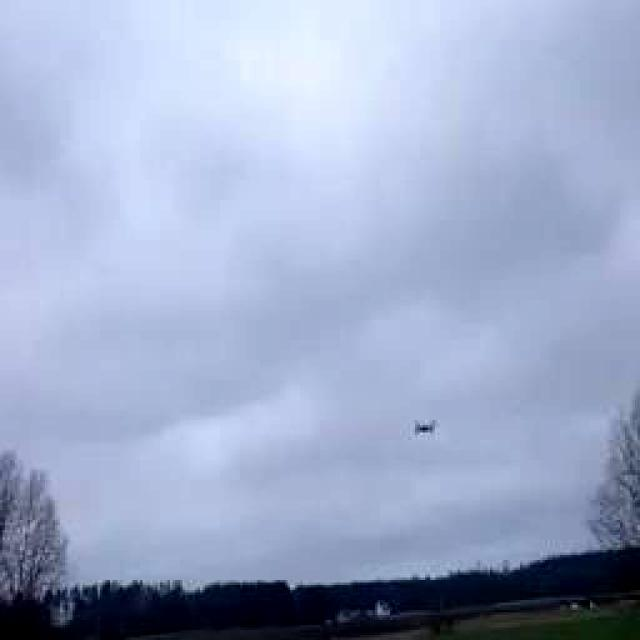bird: (395, 400, 455, 450)
